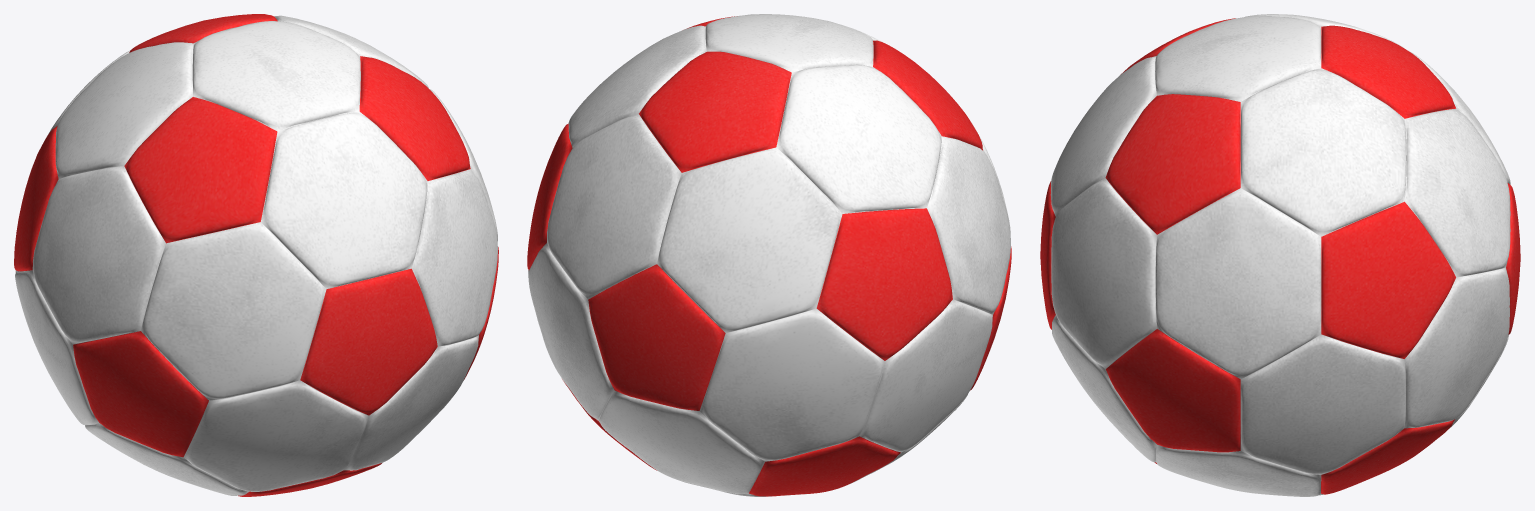
File: ball.obj
The picture shows the model from 3 angles, left to right: view 1: azimuth 30°, elevation 25°; view 2: azimuth 150°, elevation 25°; view 3: azimuth 270°, elevation 25°; orthographic projection.
Visible parts, largest first — view 1: Platonic; view 2: Platonic; view 3: Platonic.
Part boxes in pixels (left/top/right/bottom): Platonic: left=14, top=14, right=498, bottom=496; Platonic: left=527, top=14, right=1011, bottom=496; Platonic: left=1040, top=14, right=1520, bottom=496.
Bounding box in the file's own units: 20.88 × 20.72 × 20.78.
1 material, 1 textured.
